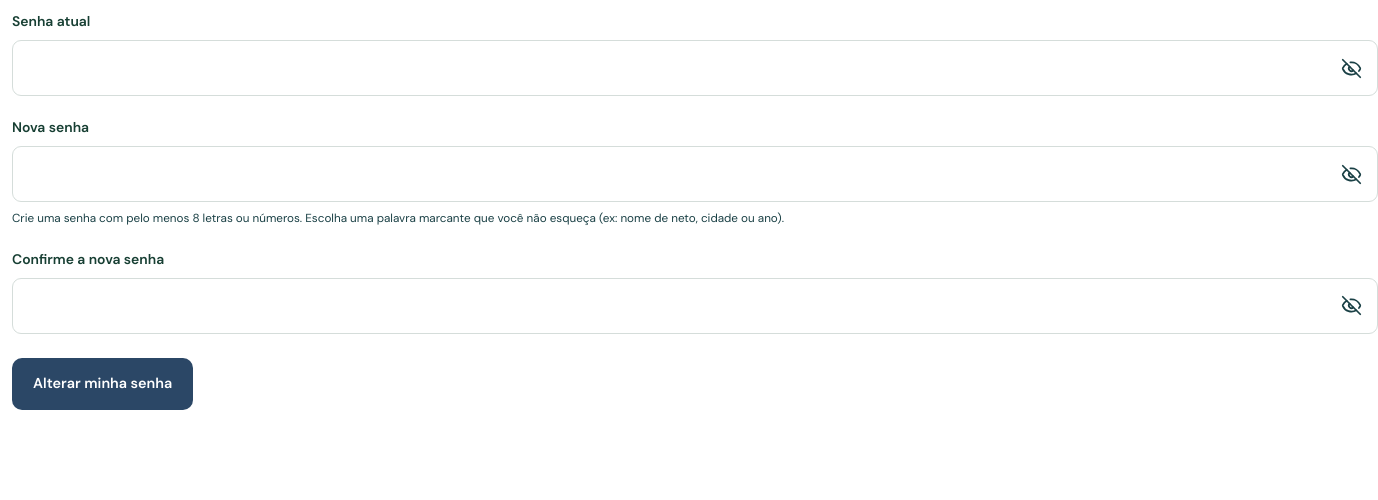
Test case: envia somente as senhas necessárias à função recebida e limpa os campos após a resposta
Type "senha antiga" into the field labelled "Senha atual" at x=674, y=68, box [28,41,1320,95]
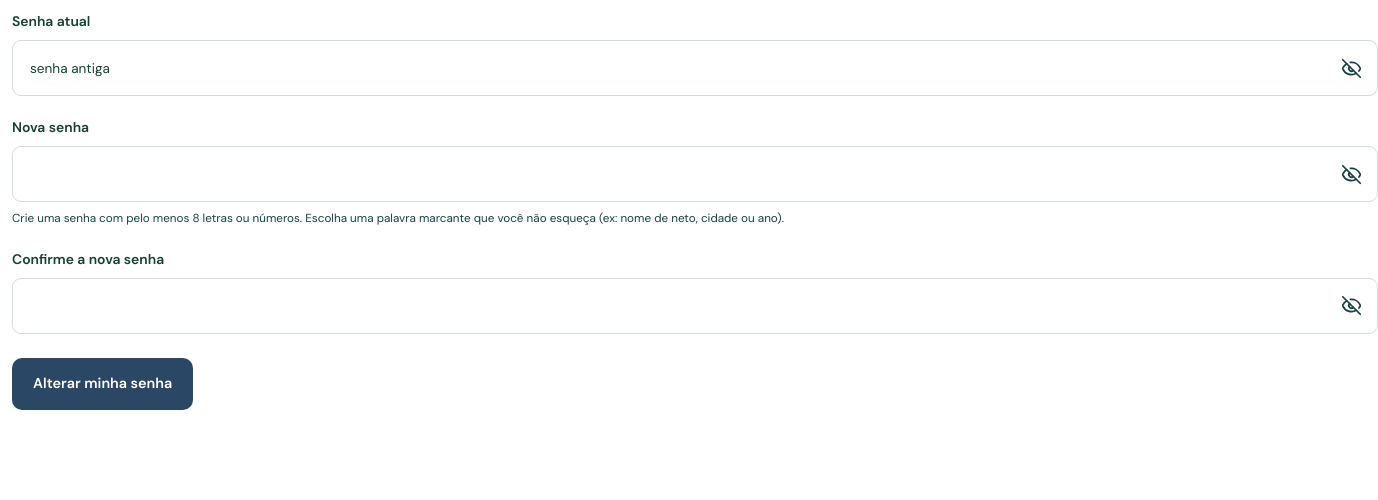
Type "nova senha segura" into the field labelled "Nova senha" at x=674, y=174, box [28,147,1320,201]
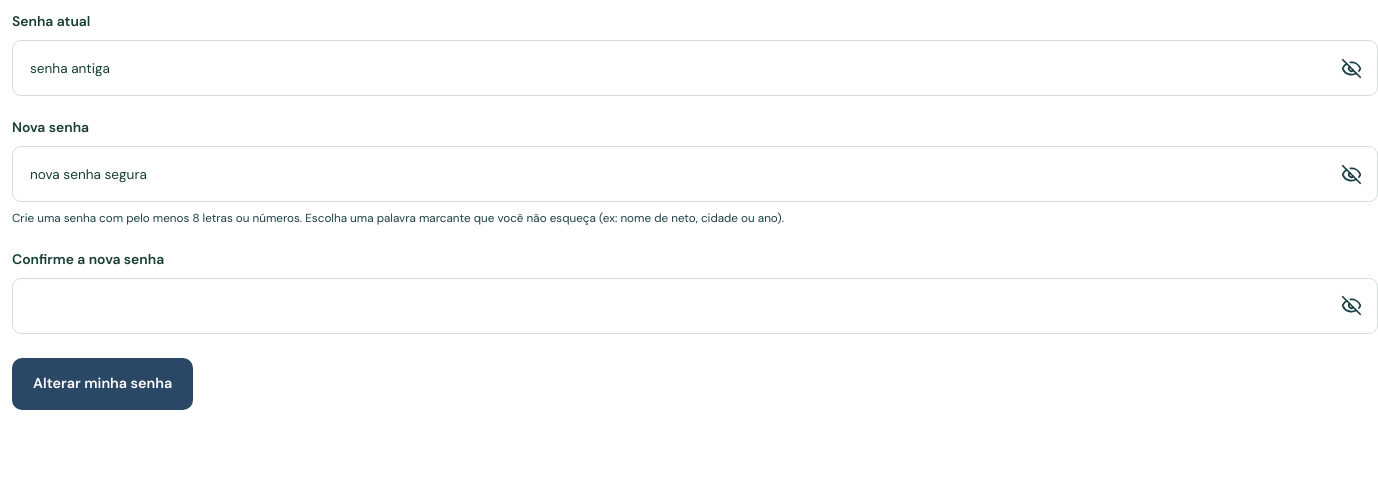
Type "nova senha segura" into the field labelled "Confirme a nova senha" at x=674, y=306, box [28,278,1320,332]
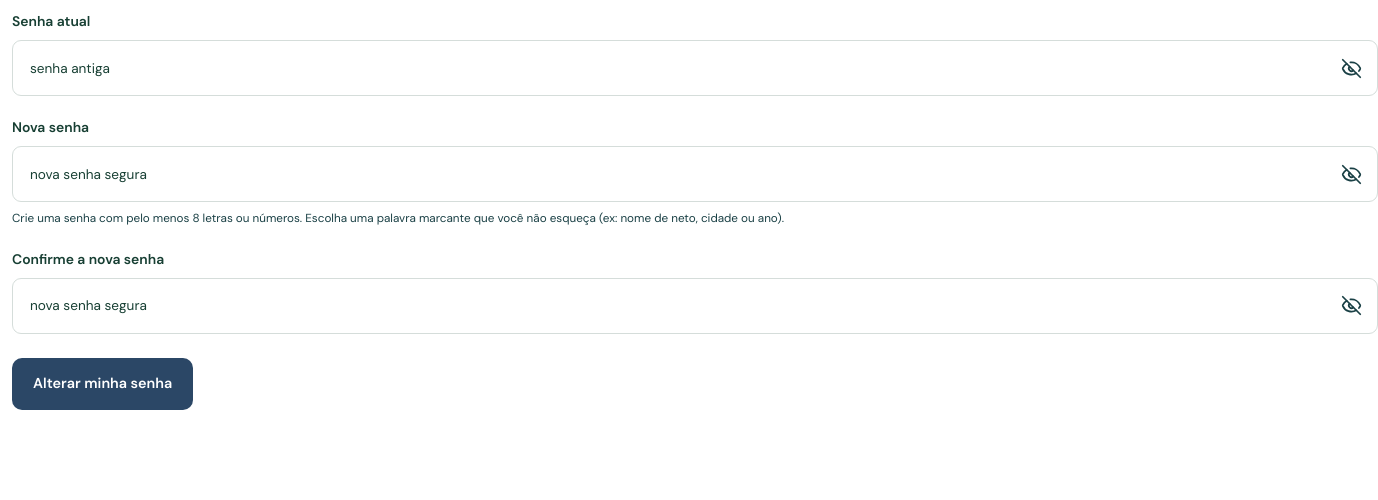
Click the button "Alterar minha senha" at x=103, y=384, box [12,358,193,410]
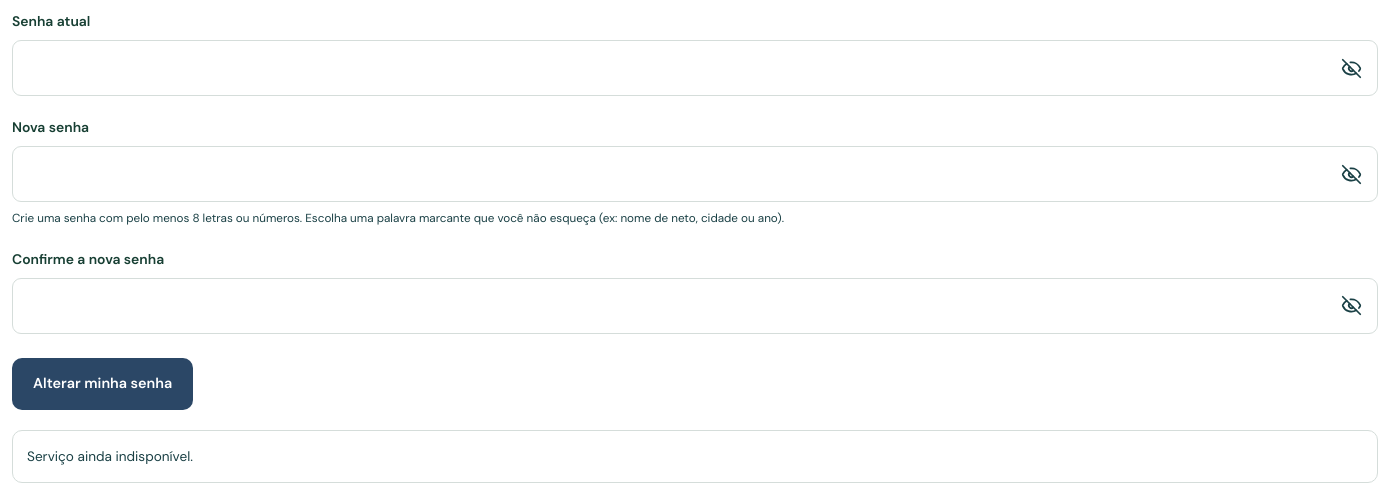
Result: the message reads "Serviço ainda indisponível." at [27,448,193,464]
Result: the field labelled "Senha atual" is empty at [28,41,1320,95]
Result: the field labelled "Nova senha" is empty at [28,147,1320,201]
